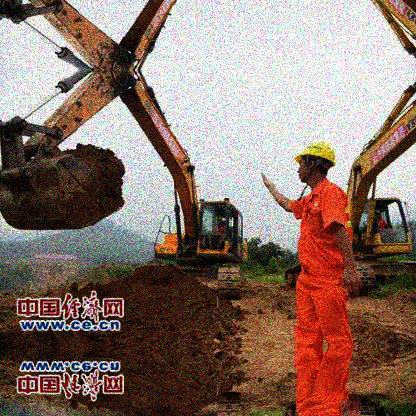helmet: (295, 142, 336, 187), (376, 209, 381, 219), (216, 215, 222, 223)
